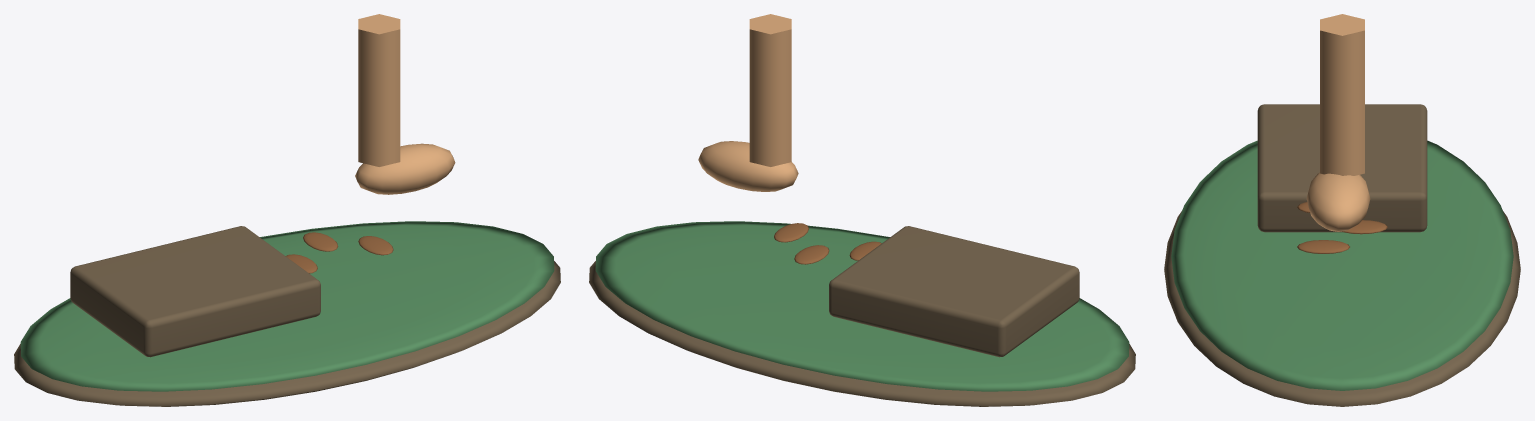
Rendered from walking-ground.glb.
3 views of the same model, side by side, from view 1: azimuth 30°, elevation 25°; view 2: azimuth 150°, elevation 25°; view 3: azimuth 270°, elevation 25° (orthographic). The views are drawn at different scales.
Parts seen in each view (by area): view 1: walking-ground_surface_01, walking-ground_surface_00, walking-ground_surface_02, walking-ground_surface_03; view 2: walking-ground_surface_01, walking-ground_surface_00, walking-ground_surface_02, walking-ground_surface_03; view 3: walking-ground_surface_01, walking-ground_surface_00, walking-ground_surface_02, walking-ground_surface_03.
Boxes of the visible parts, left/top/right/bottom form: walking-ground_surface_01: left=20, top=221, right=554, bottom=391; walking-ground_surface_00: left=14, top=226, right=560, bottom=406; walking-ground_surface_02: left=355, top=14, right=455, bottom=194; walking-ground_surface_03: left=285, top=232, right=393, bottom=273; walking-ground_surface_01: left=595, top=221, right=1129, bottom=391; walking-ground_surface_00: left=589, top=226, right=1135, bottom=406; walking-ground_surface_02: left=698, top=14, right=798, bottom=191; walking-ground_surface_03: left=774, top=223, right=881, bottom=264; walking-ground_surface_01: left=1171, top=140, right=1513, bottom=390; walking-ground_surface_00: left=1164, top=104, right=1520, bottom=406; walking-ground_surface_02: left=1306, top=14, right=1370, bottom=231; walking-ground_surface_03: left=1297, top=202, right=1387, bottom=253.
Size of the model in its own units: 4.56 by 2.39 by 2.5.
